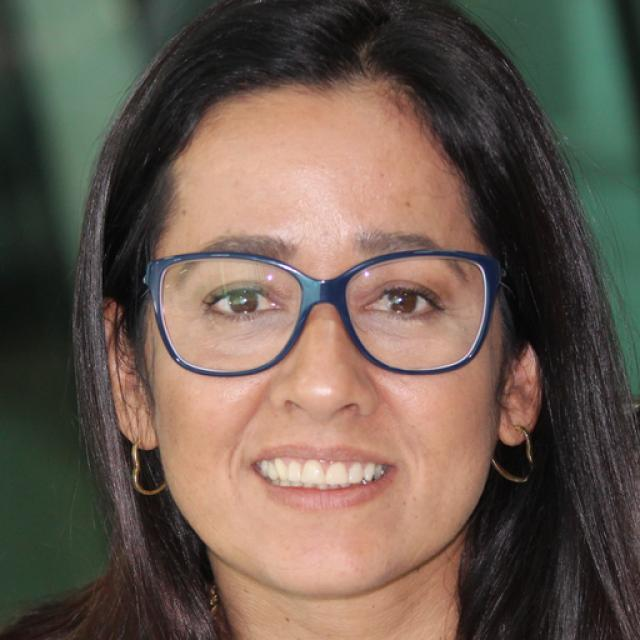happy: (152, 88, 502, 596)
